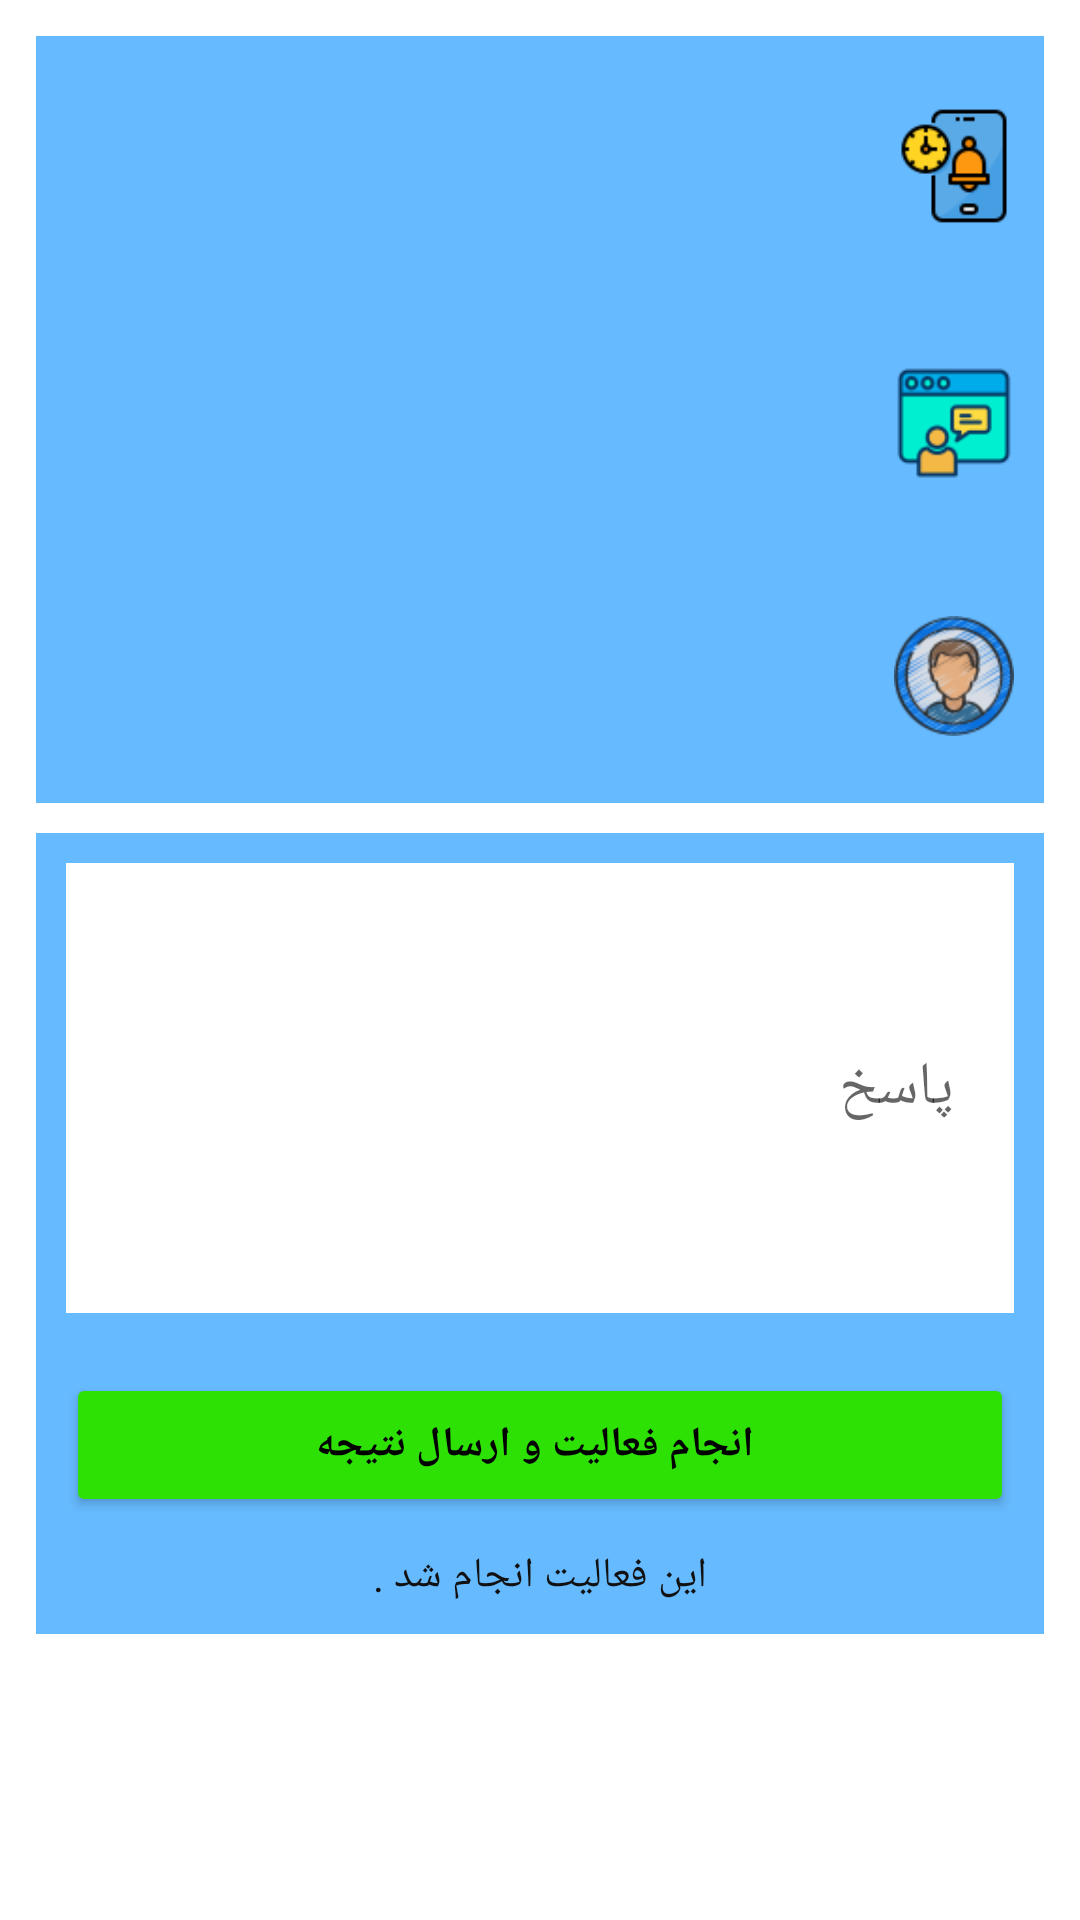

Icons on this 1080x1920 Android screen, each with the point to tap as (x,y):
user man: (954,676)
